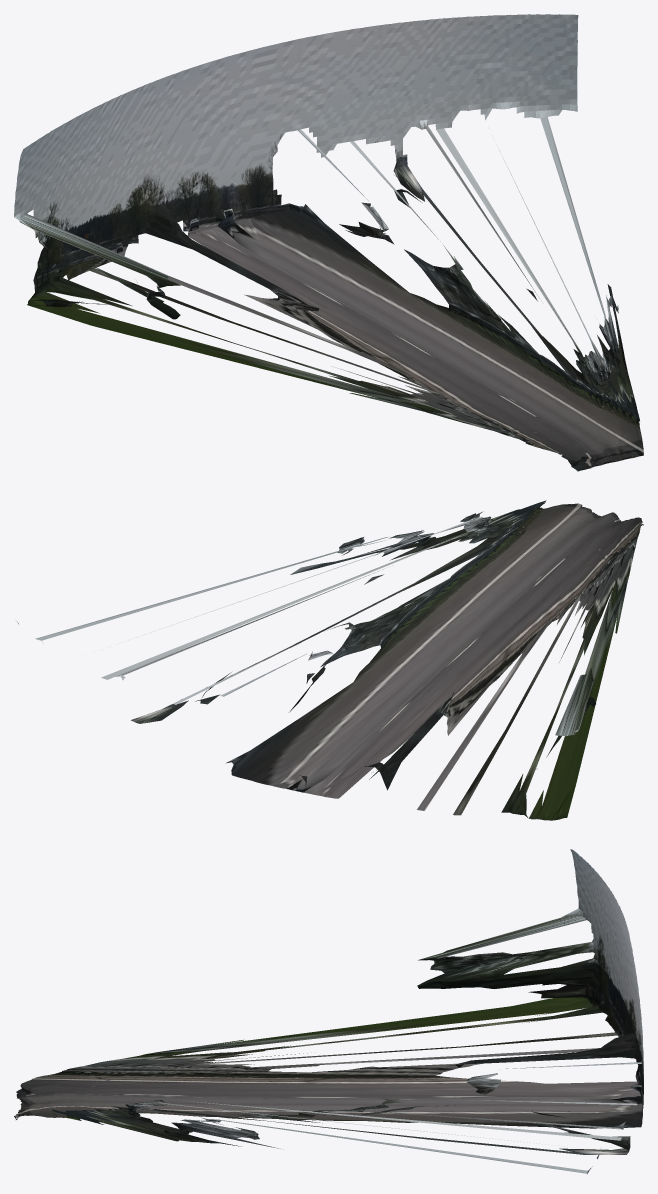
The picture shows the model from 3 angles, top to bottom: view 1: azimuth 30°, elevation 25°; view 2: azimuth 150°, elevation 25°; view 3: azimuth 270°, elevation 25°; orthographic projection. The views are drawn at different scales.
Parts seen in each view (by area): view 1: defaultobject; view 2: defaultobject; view 3: defaultobject.
Part boxes in pixels (x1,y1,x2,y2): defaultobject: (14, 14, 643, 471); defaultobject: (16, 500, 643, 820); defaultobject: (14, 849, 643, 1174).
Bounding box in the file's own units: 41.05 × 12.43 × 44.54.
Materials: 1 (1 with a texture image).
